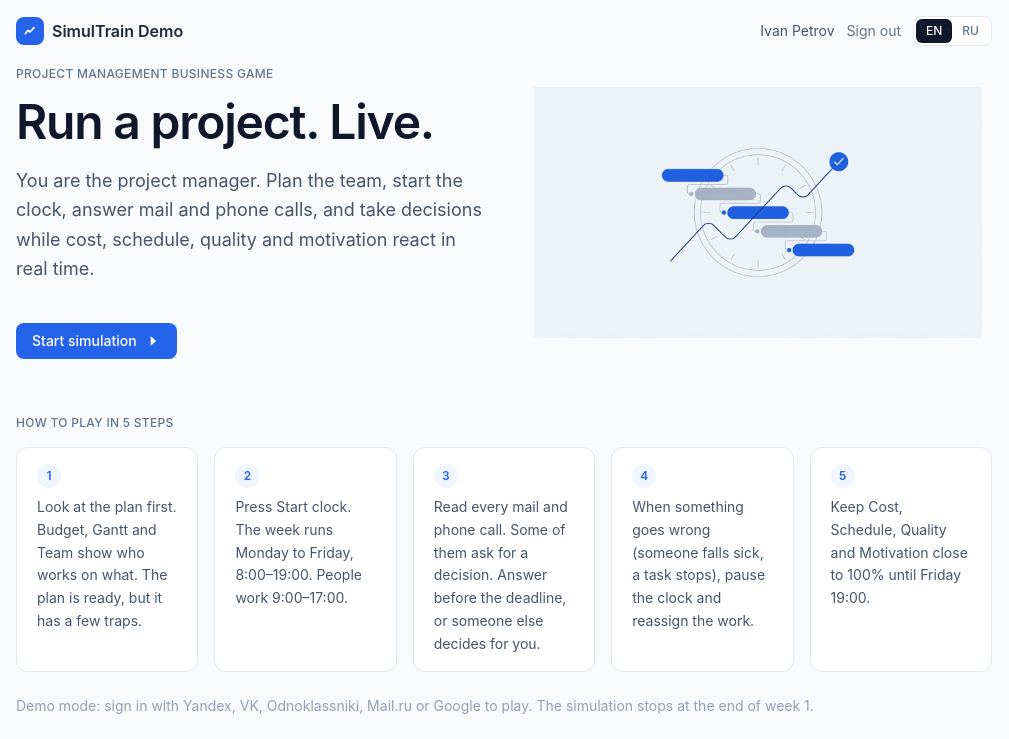
it: Landing › signs out
What coordinates should you click on to do the following:
click the button with test id "logout"
I would click on:
 (874, 31)
Its box is [847,21,901,41].
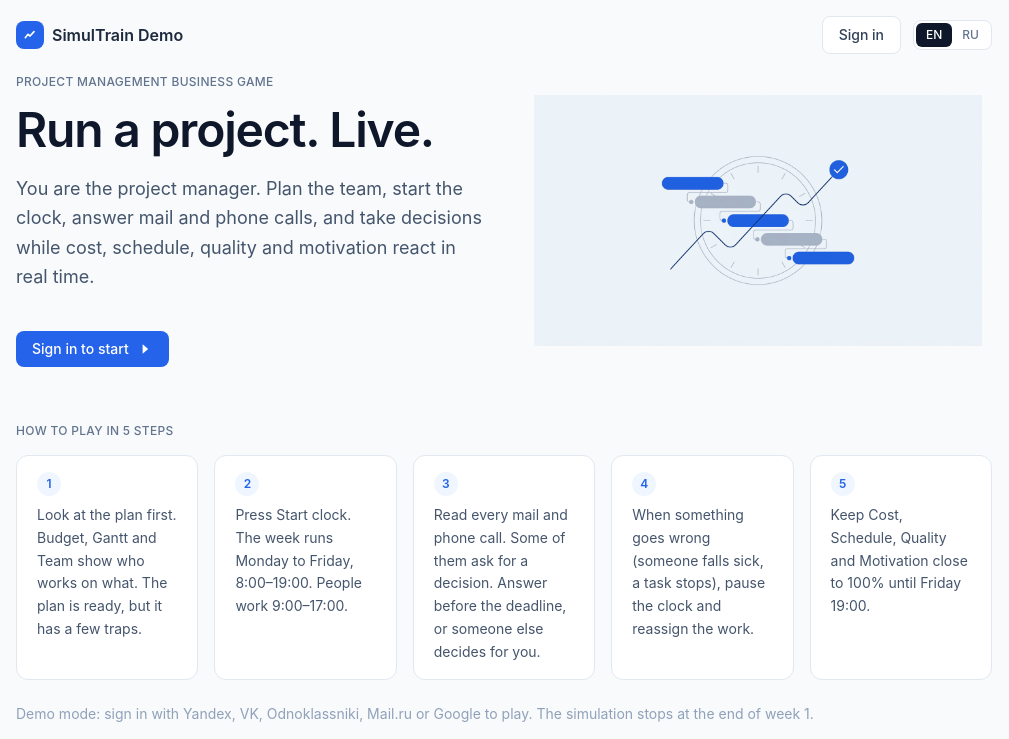
Result: the button with test id "login-start" is shown at [16,331,169,367]
